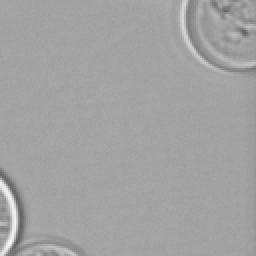picoshell: (180, 0, 254, 70), (0, 170, 22, 254), (12, 236, 84, 254)
